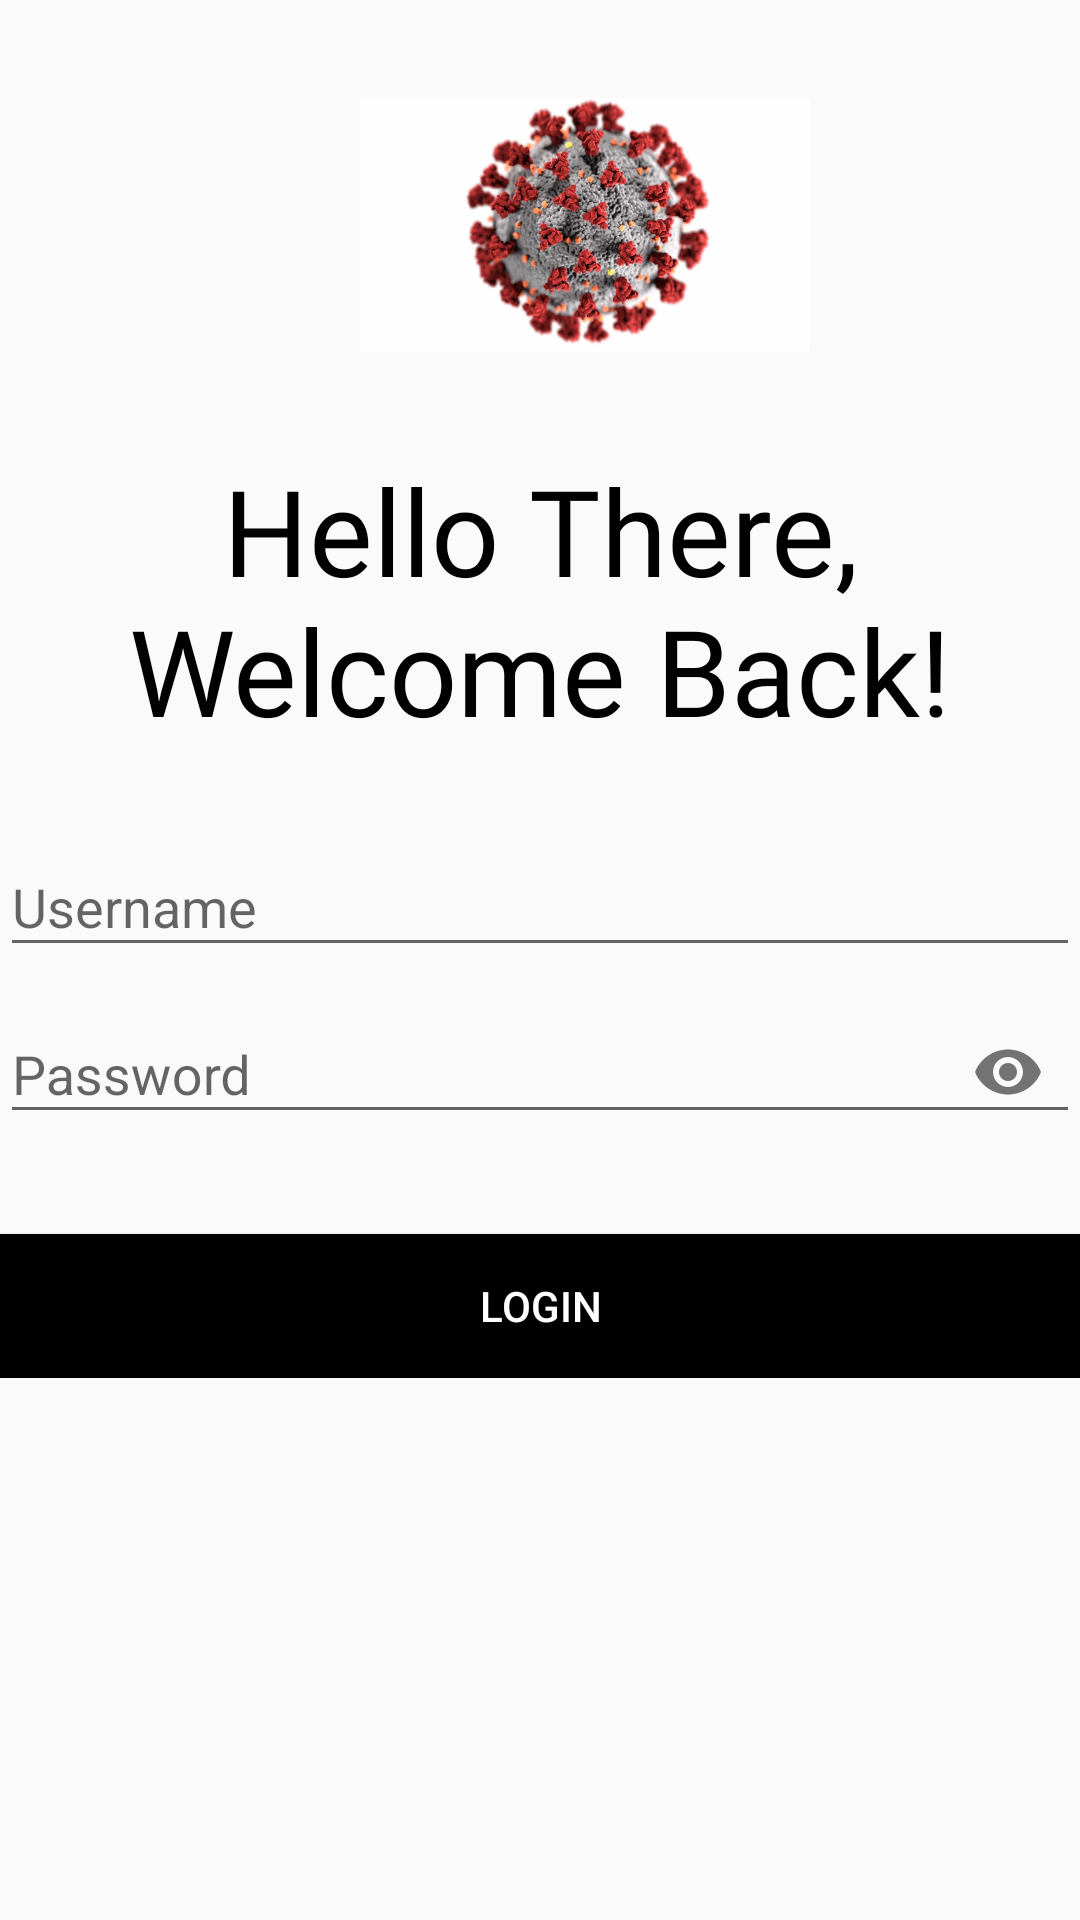

Named icons in this screenshot (1080w x 1920h) and their centers, (x,y):
covid: (587,221)
